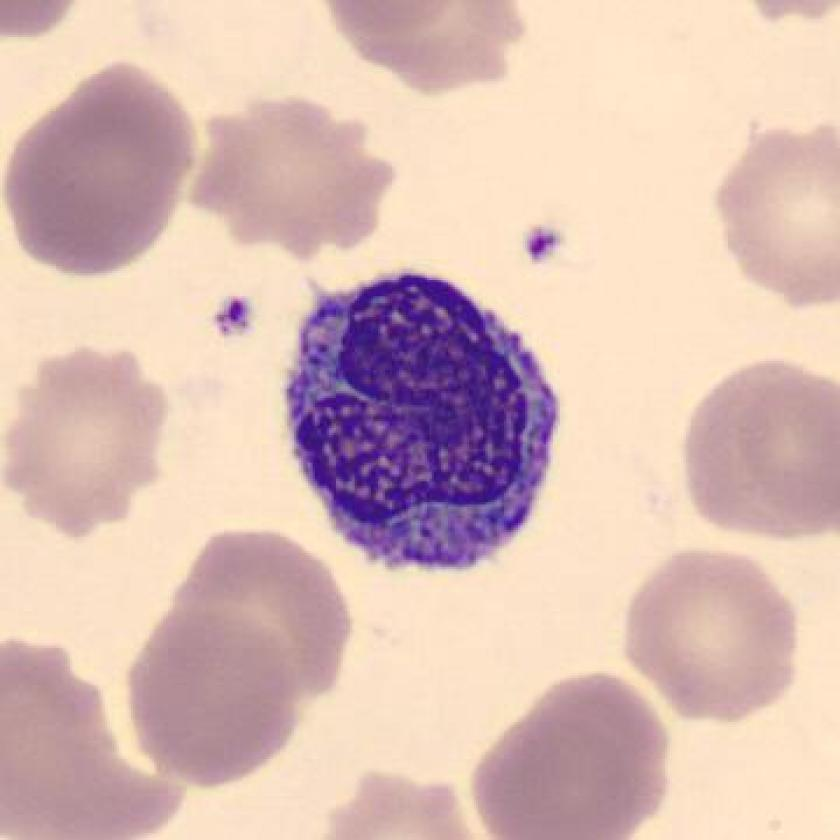monocyte: (267, 258, 584, 598)
